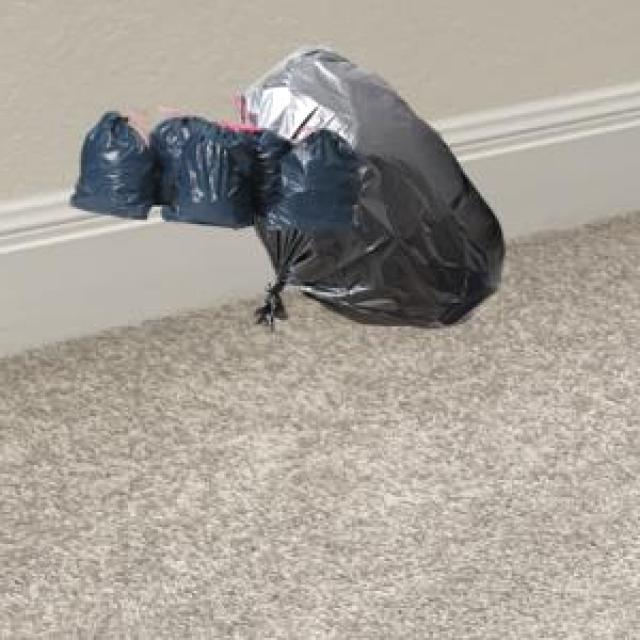Trashbag: (150, 108, 254, 232), (259, 124, 365, 240), (67, 104, 155, 222)
